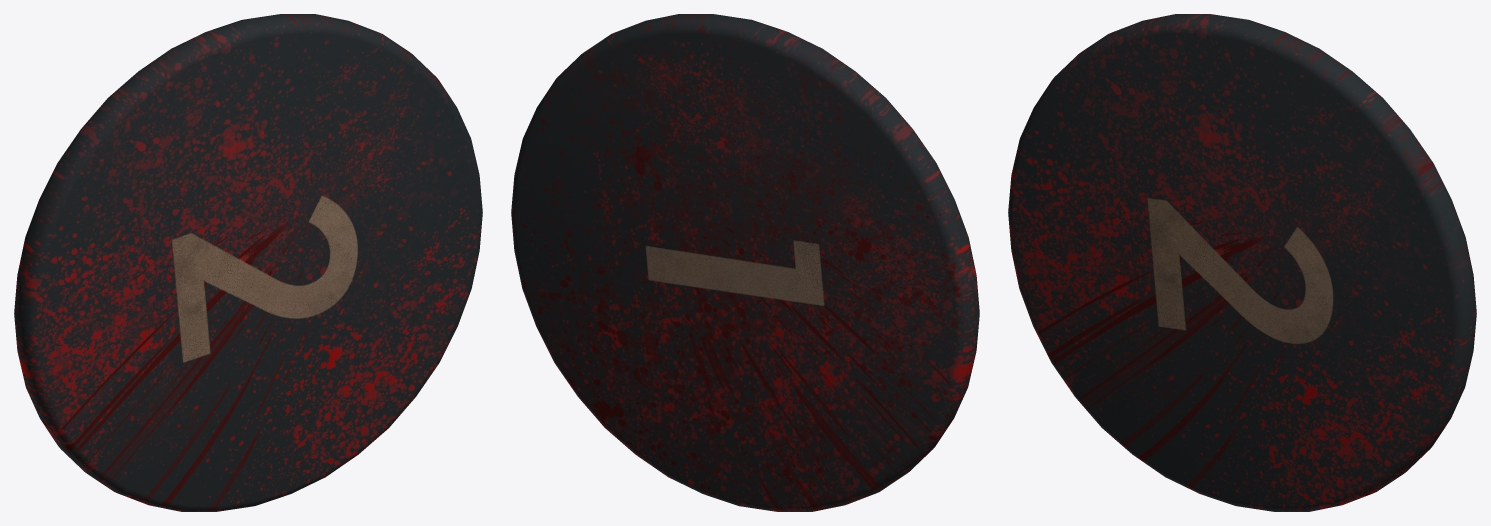
The model's file is TPK_d2.gltf.
The picture shows the model from 3 angles, left to right: view 1: azimuth 30°, elevation 25°; view 2: azimuth 150°, elevation 25°; view 3: azimuth 330°, elevation 25°; orthographic projection.
Visible parts, largest first — view 1: dice_2; view 2: dice_2; view 3: dice_2.
Part boxes in pixels (x1,y1,x2,y2): dice_2: (14, 14, 482, 511); dice_2: (511, 14, 979, 511); dice_2: (1008, 14, 1476, 511).
Bounding box in the file's own units: 180 × 180 × 12.56.
Materials: 1 (1 with a texture image).
